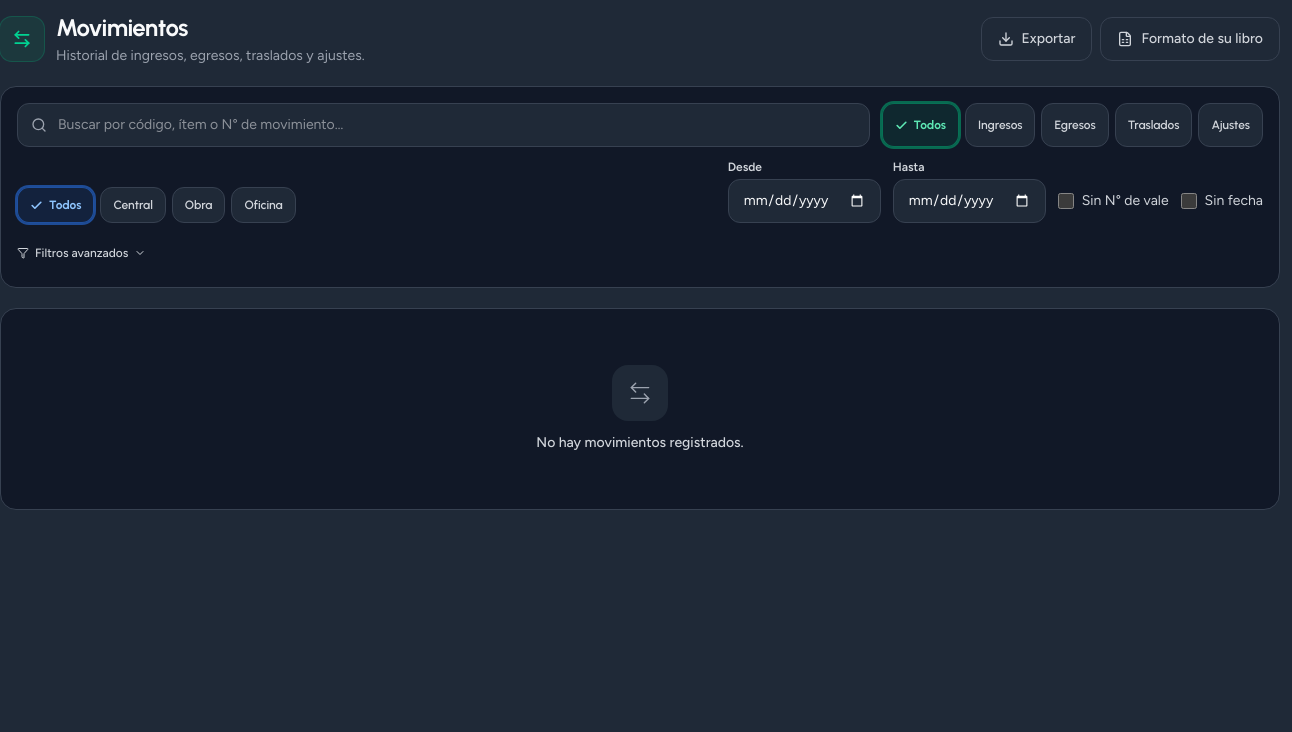
MovimientosPage › estado vacío con filtros, error con reintento y rango invertido
The image size is (1292, 732).
Expected: the text "No hay movimientos registrados." is shown, top-left (536, 433), bottom-right (744, 453)
Click the checkbox labelled "Sin fecha" at (1189, 201), box top-left (1181, 193), bottom-right (1197, 209)
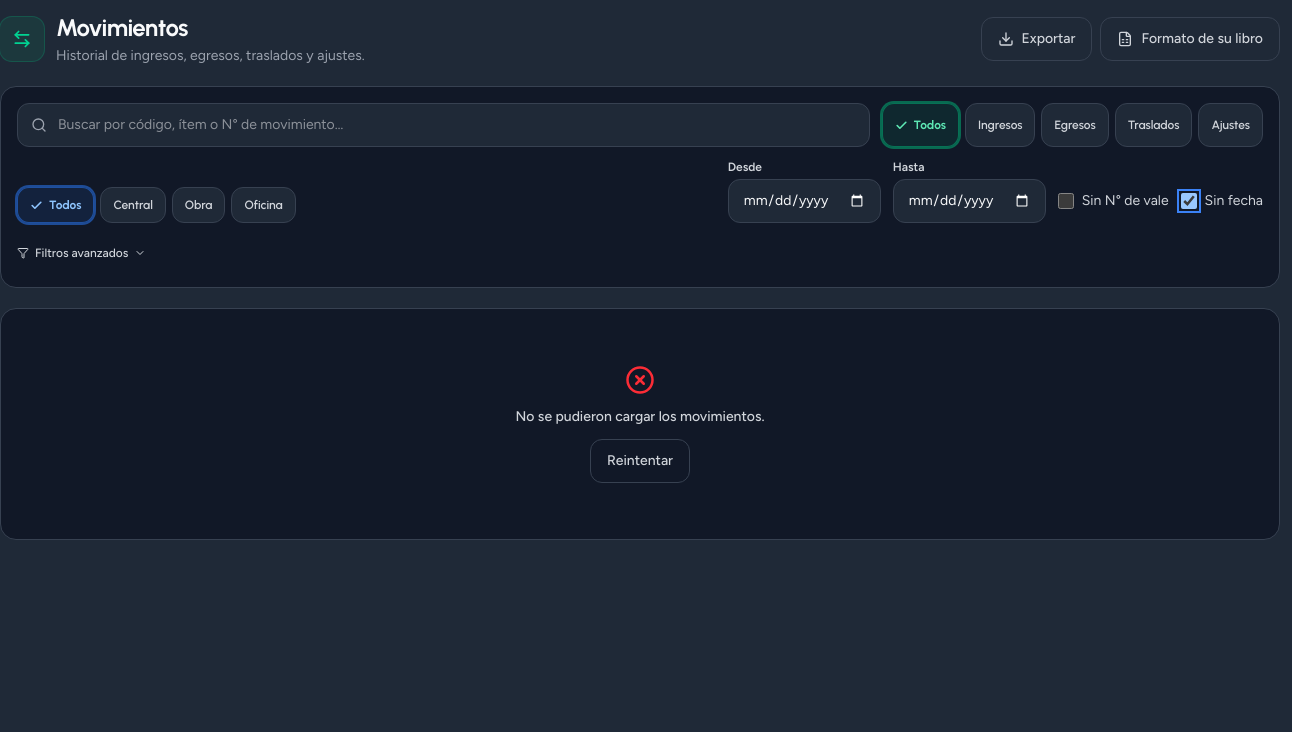
Now the text "No se pudieron cargar los movimientos." is shown, box top-left (516, 407), bottom-right (764, 427)
Click the button "Reintentar" at (640, 461), box top-left (590, 439), bottom-right (690, 483)
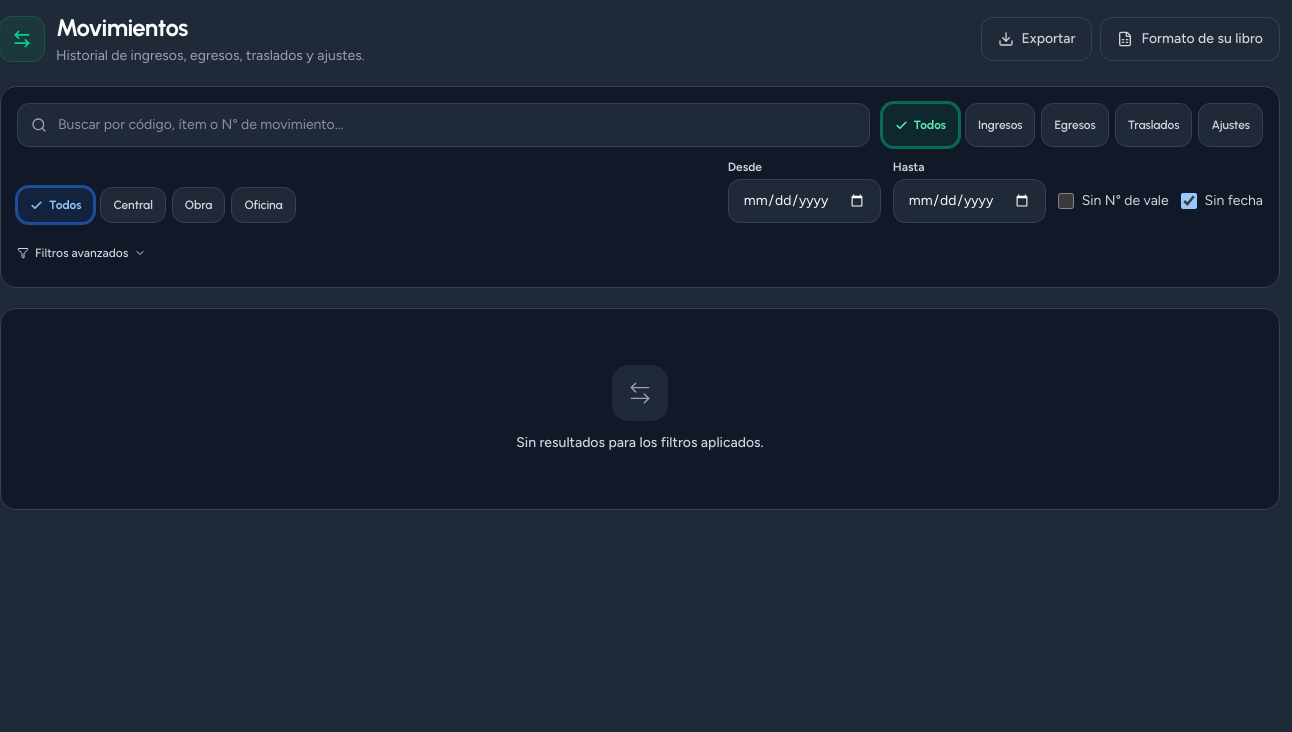
Now the text "Sin resultados para los filtros aplicados." is shown, box top-left (516, 433), bottom-right (764, 453)
Type "2026-10-20" into the date field labelled "Desde" at (804, 201), box top-left (728, 179), bottom-right (881, 223)
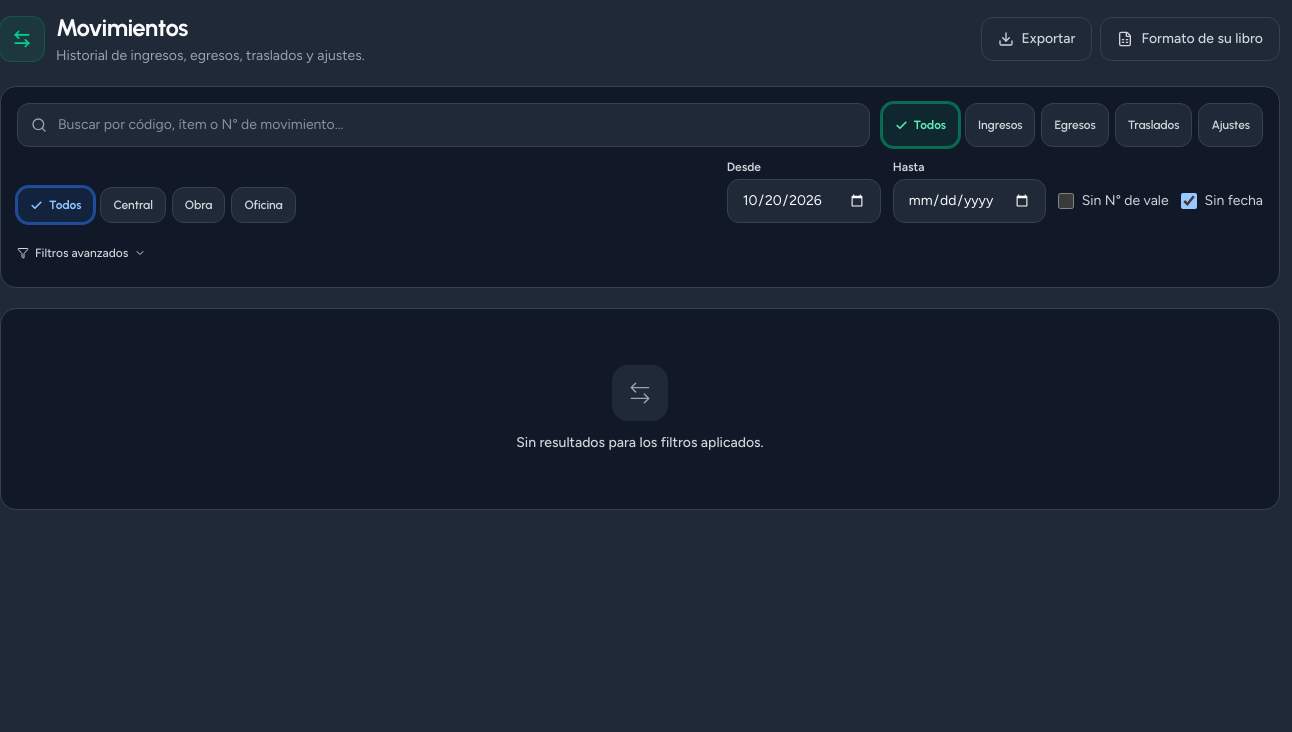
Type "2026-10-05" into the date field labelled "Hasta" at (969, 201), box top-left (893, 179), bottom-right (1046, 223)
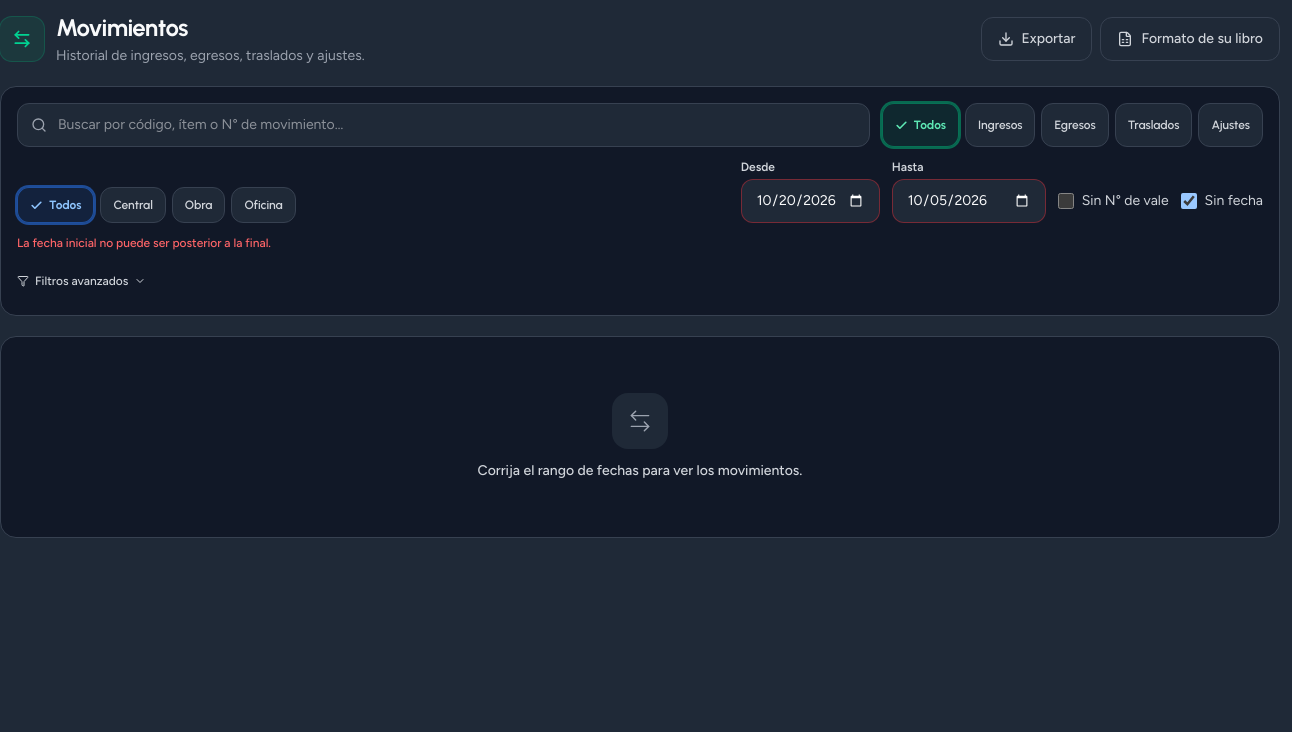
Now the text "La fecha inicial no puede ser posterior a la final." is shown, box top-left (17, 236), bottom-right (271, 250)
